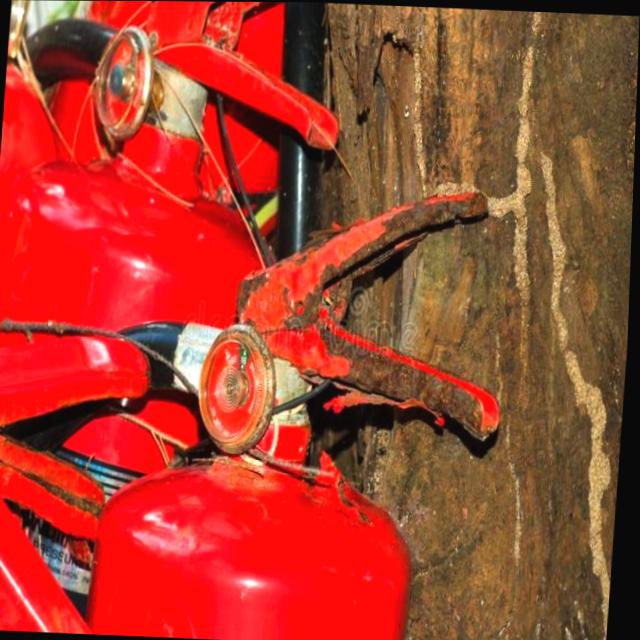FireExtinguisher: (0, 163, 522, 640), (0, 0, 353, 640)
